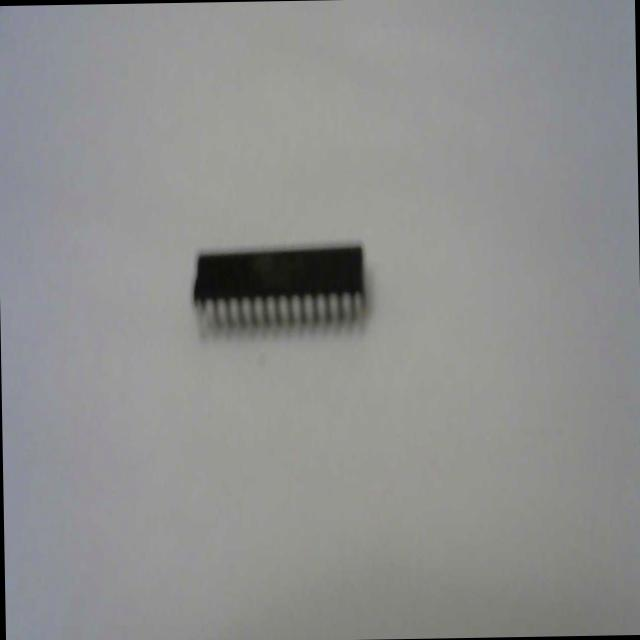atmega: (189, 237, 369, 342)
